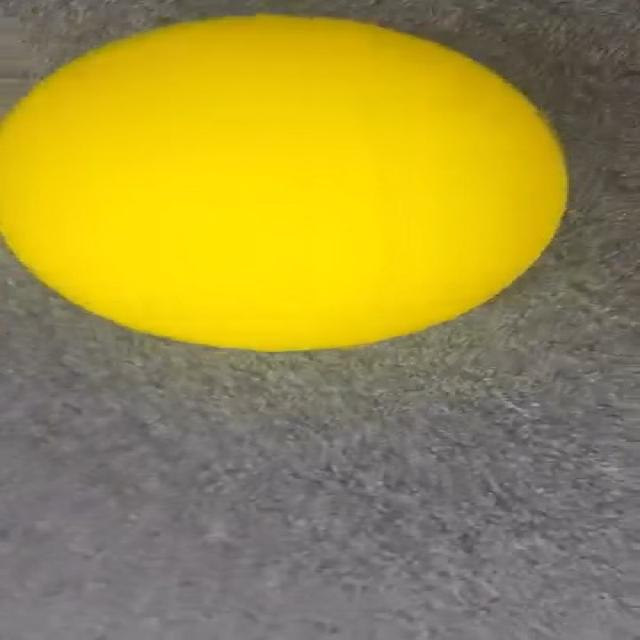Fuels: (0, 16, 565, 349)
